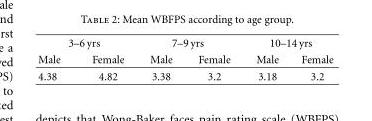table: (37, 36, 332, 81)
table column: (75, 36, 136, 81), (184, 36, 242, 81), (136, 36, 184, 81), (242, 36, 289, 81), (289, 36, 332, 81), (37, 36, 75, 81)
table column header: (37, 36, 332, 67)
table row: (37, 50, 332, 67), (37, 36, 332, 50), (37, 67, 332, 81)
table spanning cell: (136, 36, 242, 50), (37, 36, 136, 50), (242, 36, 332, 50)
